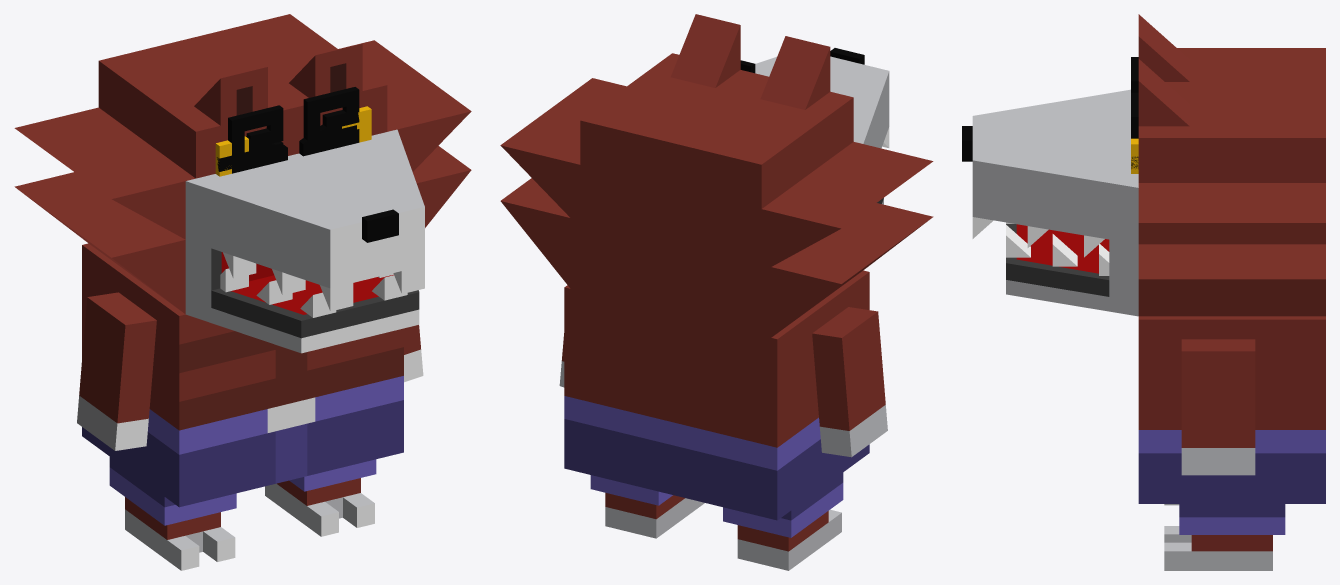
3 views of the same model, side by side, from view 1: azimuth 30°, elevation 25°; view 2: azimuth 150°, elevation 25°; view 3: azimuth 270°, elevation 25° (orthographic). The views are drawn at different scales.
Visible parts, largest first — view 1: Ch_44_Head, Ch_44, Ch_44_Hand_L, Ch_44_Leg_L, Ch_44_Leg_R, Ch_44_Eye_03_R, Ch_44_Eye_03_L, Ch_44_Eye_01, Ch_44_Hand_R, Ch_44_Eye_02; view 2: Ch_44_Head, Ch_44, Ch_44_Hand_L, Ch_44_Leg_L, Ch_44_Leg_R; view 3: Ch_44_Head, Ch_44, Ch_44_Hand_R, Ch_44_Leg_R.
Boxes of the visible parts, x1,y1,x2,y2 form: Ch_44_Head: (14,14,471,353); Ch_44: (82,243,403,507); Ch_44_Hand_L: (77,292,156,450); Ch_44_Leg_L: (109,457,236,570); Ch_44_Leg_R: (265,459,376,536); Ch_44_Eye_03_R: (303,87,359,154); Ch_44_Eye_03_L: (228,105,283,173); Ch_44_Eye_01: (215,106,371,176); Ch_44_Hand_R: (404,325,423,382); Ch_44_Eye_02: (217,125,356,171); Ch_44_Head: (500,14,933,337); Ch_44: (564,270,869,520); Ch_44_Hand_L: (812,307,887,457); Ch_44_Leg_L: (723,472,843,570); Ch_44_Leg_R: (590,475,704,538); Ch_44_Head: (962,14,1325,316); Ch_44: (1138,316,1325,503); Ch_44_Hand_R: (1181,339,1255,475); Ch_44_Leg_R: (1164,504,1285,570).
Bounding box in the file's own units: 9.34 × 12.29 × 8.48.
